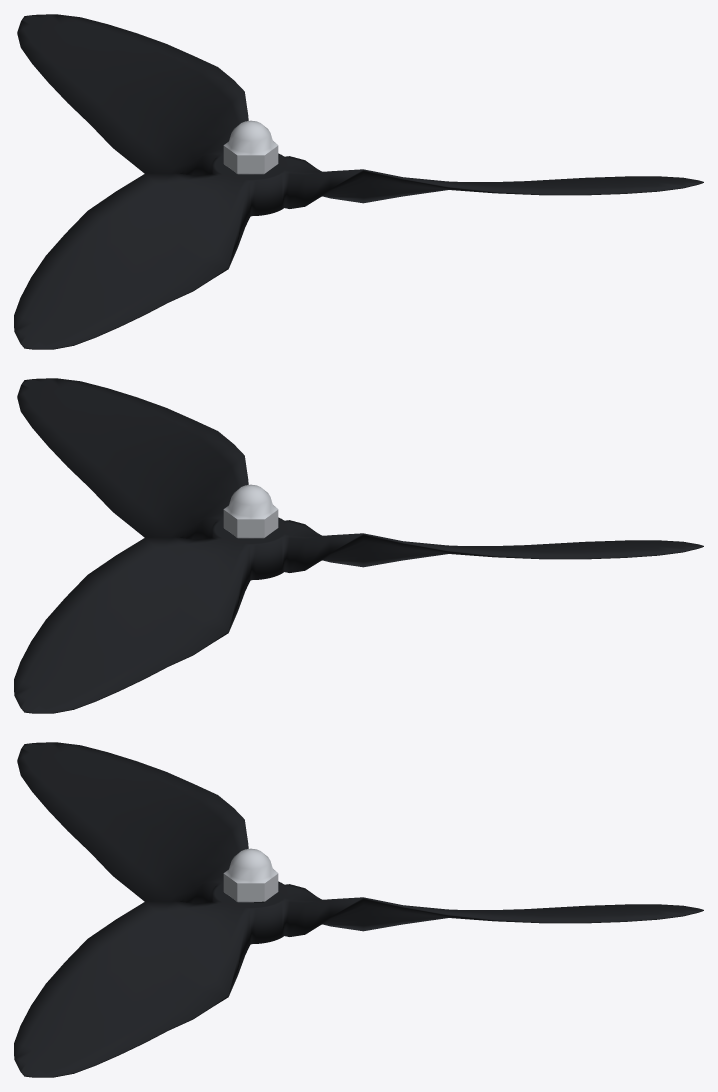
File: DALPROP_T6040.fbx
The picture shows the model from 3 angles, top to bottom: view 1: azimuth 30°, elevation 25°; view 2: azimuth 150°, elevation 25°; view 3: azimuth 270°, elevation 25°; orthographic projection.
Visible parts, largest first — view 1: R2_PROP_DALPROP_T6040, R2_NUT_DALPROP_T6040; view 2: R2_PROP_DALPROP_T6040, R2_NUT_DALPROP_T6040; view 3: R2_PROP_DALPROP_T6040, R2_NUT_DALPROP_T6040.
Boxes of the visible parts, box(x1,y1,x2,y2) form: R2_PROP_DALPROP_T6040: box(14, 14, 703, 349); R2_NUT_DALPROP_T6040: box(223, 120, 278, 174); R2_PROP_DALPROP_T6040: box(14, 378, 703, 713); R2_NUT_DALPROP_T6040: box(223, 484, 278, 538); R2_PROP_DALPROP_T6040: box(14, 742, 703, 1077); R2_NUT_DALPROP_T6040: box(223, 848, 278, 902).
Size of the model in its own units: 0.132 by 0.018 by 0.1161.
Materials: 1 (1 with a texture image).
